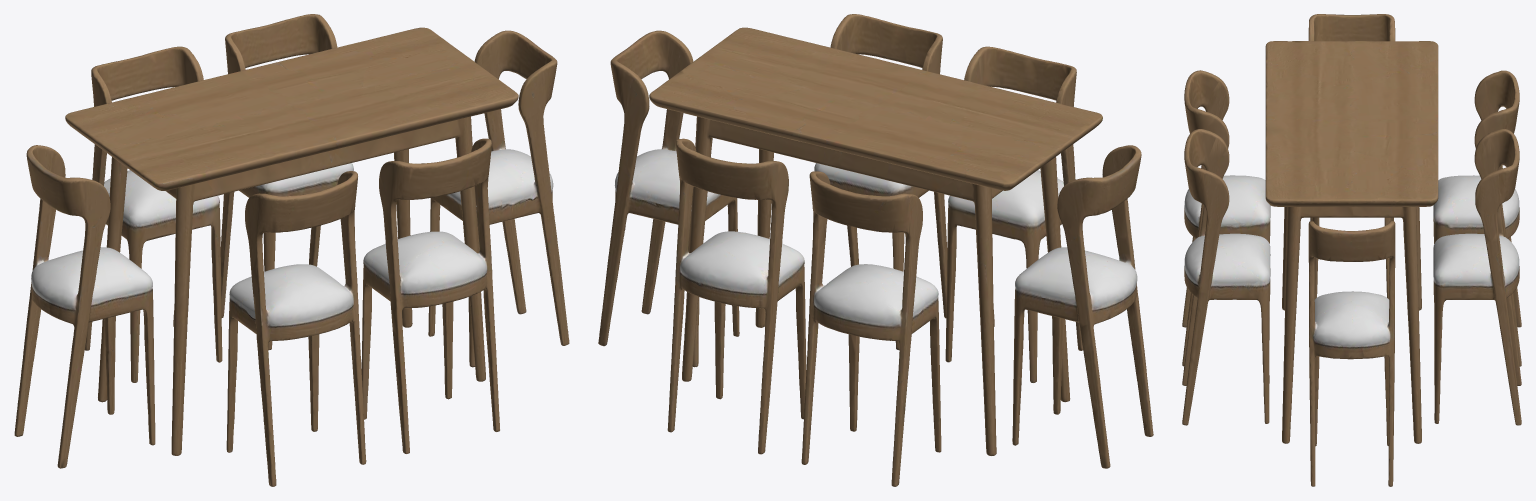
File: ety.glb
3 renders of one model, left to right at view 1: azimuth 30°, elevation 25°; view 2: azimuth 150°, elevation 25°; view 3: azimuth 270°, elevation 25°, orthographic. The views are drawn at different scales.
Parts seen in each view (by area): view 1: Meshy_AI_Scandinavian_Dining_Set_20261119_texture; view 2: Meshy_AI_Scandinavian_Dining_Set_20261119_texture; view 3: Meshy_AI_Scandinavian_Dining_Set_20261119_texture.
Part boxes in pixels (x1,y1,x2,y2): Meshy_AI_Scandinavian_Dining_Set_20261119_texture: (14,14,569,486); Meshy_AI_Scandinavian_Dining_Set_20261119_texture: (598,14,1153,486); Meshy_AI_Scandinavian_Dining_Set_20261119_texture: (1182,14,1521,486).
Bounding box in the file's own units: 1.4 × 0.7501 × 0.9001.
Materials: 1 (1 with a texture image).
